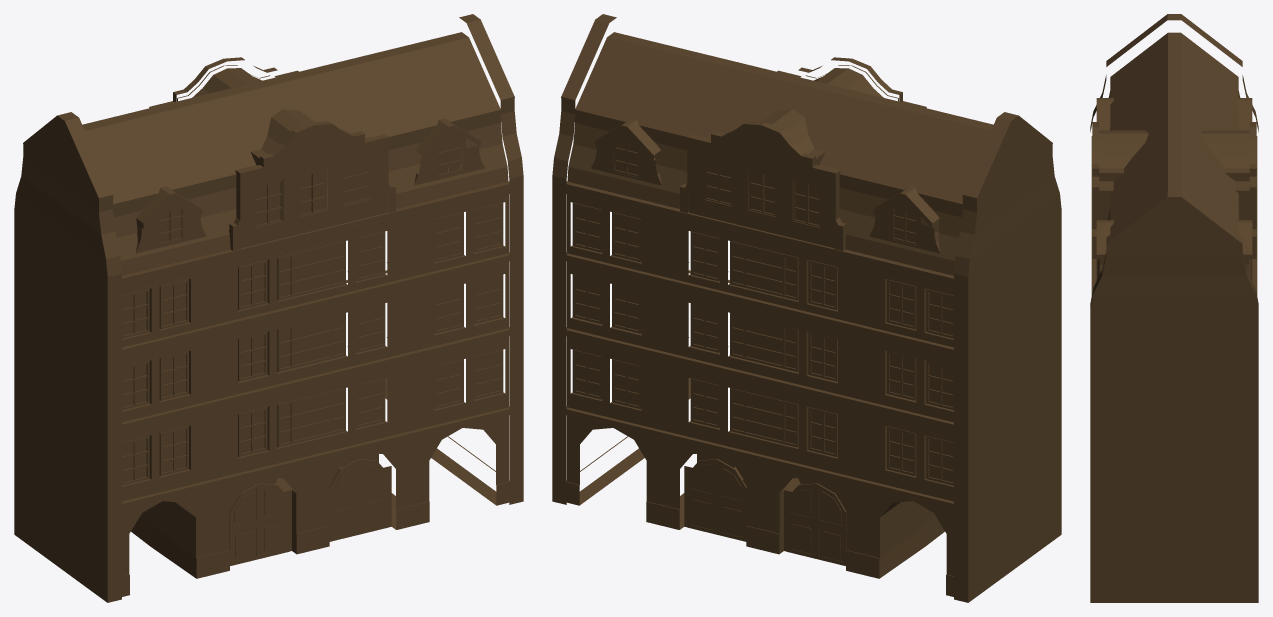
Rendered from housing-extra-townhouse-large.glb.
3 views of the same model, side by side, from view 1: azimuth 30°, elevation 25°; view 2: azimuth 150°, elevation 25°; view 3: azimuth 270°, elevation 25° (orthographic). The views are drawn at different scales.
Visible parts, largest first — view 1: Building2_Large; view 2: Building2_Large; view 3: Building2_Large.
Boxes of the visible parts, x1=… form: Building2_Large: x1=14, y1=14, x2=523, y2=602; Building2_Large: x1=552, y1=14, x2=1061, y2=602; Building2_Large: x1=1090, y1=14, x2=1258, y2=602.
Size of the model in its own units: 0.966 by 1 by 0.3751.
